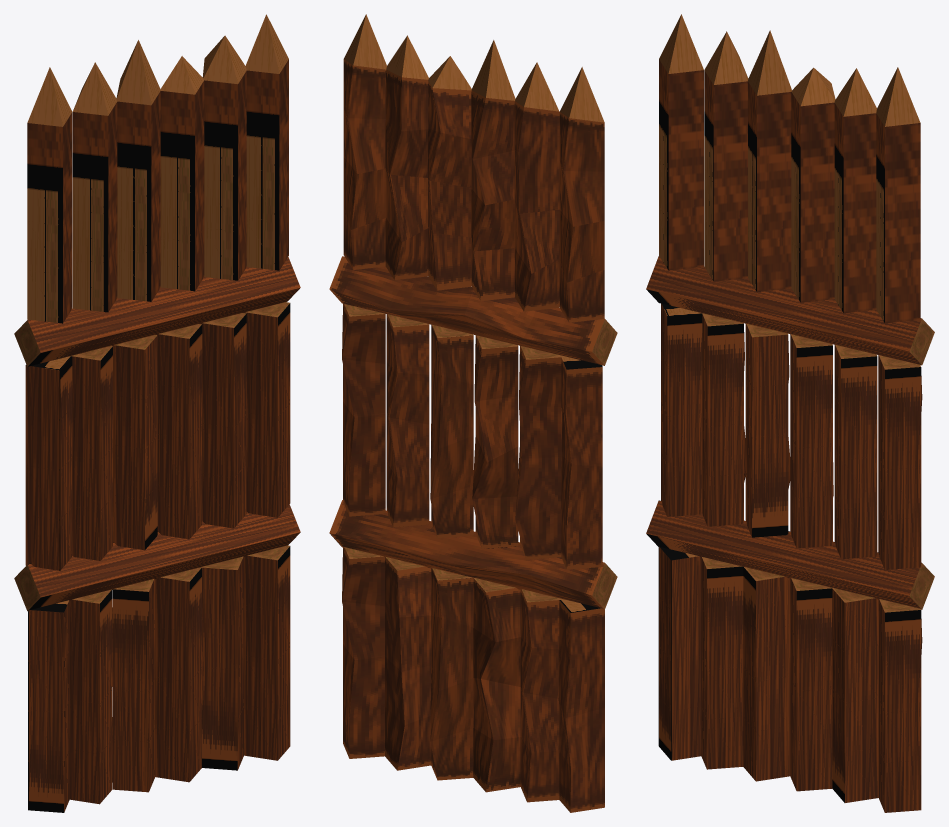
Rendered from Parede.fbx.
3 views of the same model, side by side, from view 1: azimuth 30°, elevation 25°; view 2: azimuth 150°, elevation 25°; view 3: azimuth 330°, elevation 25° (orthographic).
Visible parts, largest first — view 1: Cube.006, Cube.005, Cube.013, Cube.004, Cube.003, Cube, Cube.012, Cube.001, Cube.002, Cube.019, Cube.017, Cube.009 (+8 smaller); view 2: Cube.006, Cube.013, Cube.005, Cube.003, Cube.004, Cube, Cube.016, Cube.001, Cube.002, Cube.015, Cube.014, Cube.010 (+8 smaller); view 3: Cube.006, Cube.013, Cube.005, Cube, Cube.003, Cube.004, Cube.016, Cube.002, Cube.015, Cube.001, Cube.010, Cube.007 (+8 smaller).
Boxes of the visible parts, x1,y1,x2,y2 form: Cube.006: (14,257,300,366); Cube.005: (27,67,72,323); Cube.013: (14,504,300,611); Cube.004: (72,62,117,312); Cube.003: (116,40,160,301); Cube: (245,14,288,270); Cube.012: (25,356,72,570); Cube.001: (202,35,246,280); Cube.002: (160,56,204,291); Cube.019: (244,545,290,760); Cube.017: (155,567,201,782); Cube.009: (156,324,202,539); Cube.006: (329,256,617,365); Cube.013: (329,500,617,609); Cube.005: (559,67,604,322); Cube.003: (471,40,515,301); Cube.004: (514,62,559,311); Cube: (343,14,386,269); Cube.016: (473,578,520,792); Cube.001: (385,35,428,279); Cube.002: (428,56,471,290); Cube.015: (385,556,431,770); Cube.014: (558,599,604,812); Cube.010: (472,335,518,548); Cube.006: (646,256,934,365); Cube.013: (646,500,934,609); Cube.005: (659,14,703,270); Cube: (876,67,920,323); Cube.003: (748,30,791,292); Cube.004: (704,31,748,281); Cube.016: (743,566,790,781); Cube.002: (791,67,835,302); Cube.015: (832,588,878,802); Cube.001: (834,68,876,313); Cube.010: (745,323,790,537); Cube.007: (878,355,922,569).
Bounding box in the file's own units: 824 × 2225 × 170.
